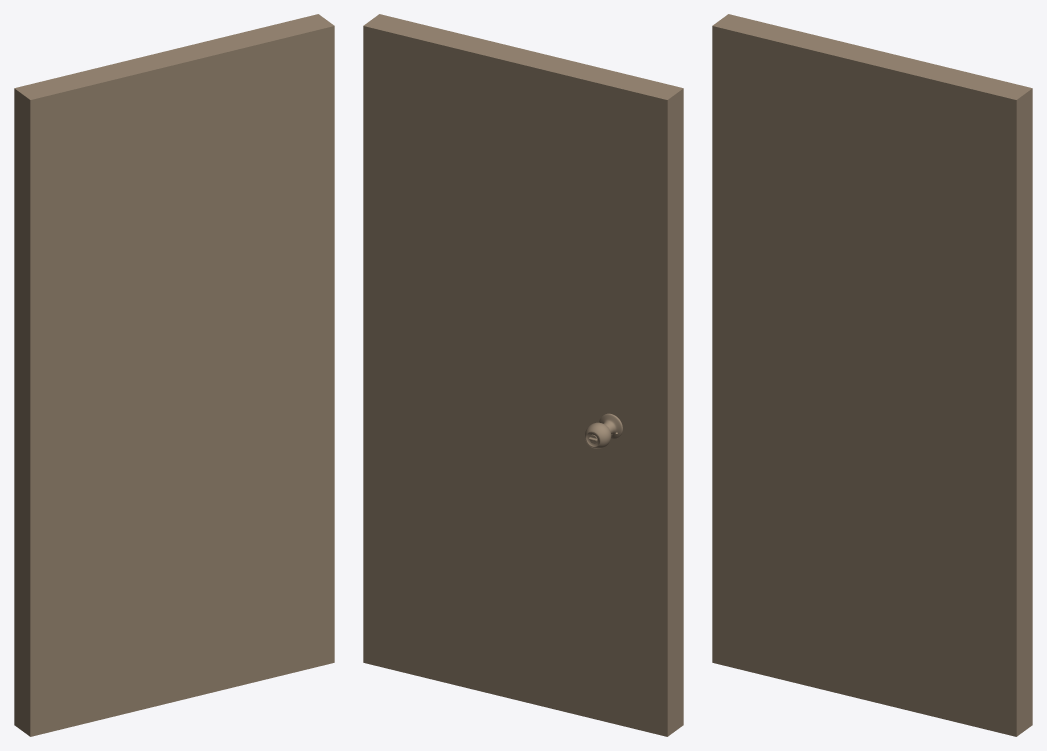
The model's file is Door_LivingRoom.fbx.
3 renders of one model, left to right at view 1: azimuth 30°, elevation 25°; view 2: azimuth 150°, elevation 25°; view 3: azimuth 330°, elevation 25°, orthographic.
Visible parts, largest first — view 1: Door_LivingRoom; view 2: Door_LivingRoom; view 3: Door_LivingRoom.
Boxes of the visible parts, left/top/right/bottom form: Door_LivingRoom: left=14, top=14, right=334, bottom=736; Door_LivingRoom: left=363, top=14, right=683, bottom=736; Door_LivingRoom: left=712, top=14, right=1032, bottom=736.
Size of the model in its own units: 136 by 272 by 27.9.
